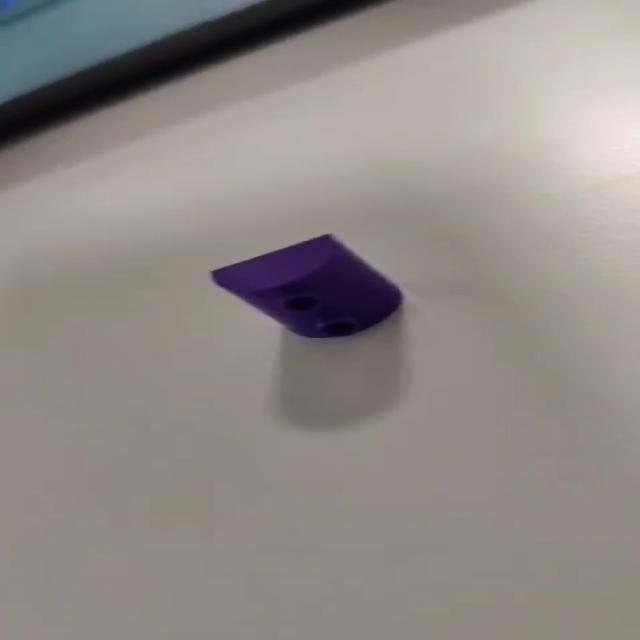H2x2x1: (205, 234, 408, 338)
